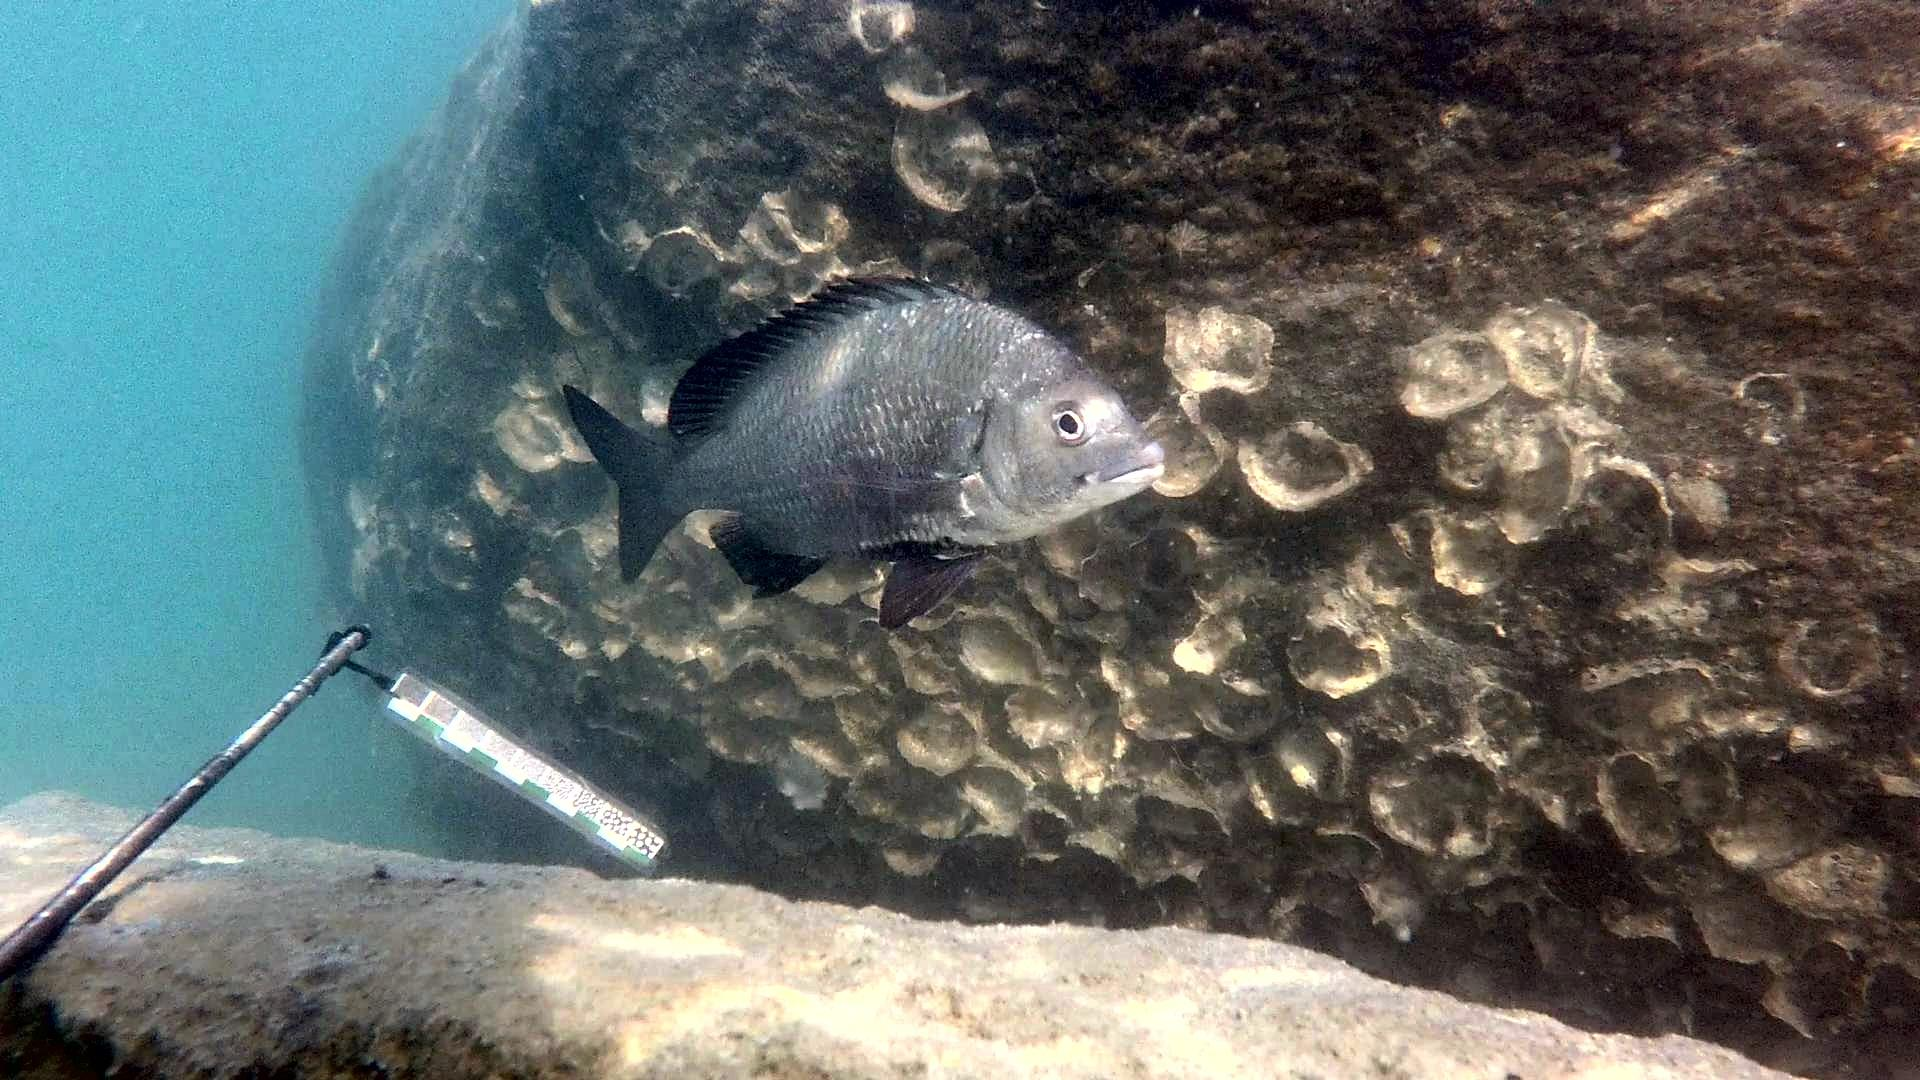acanthopagrus palmaris: (559, 268, 1172, 640)
